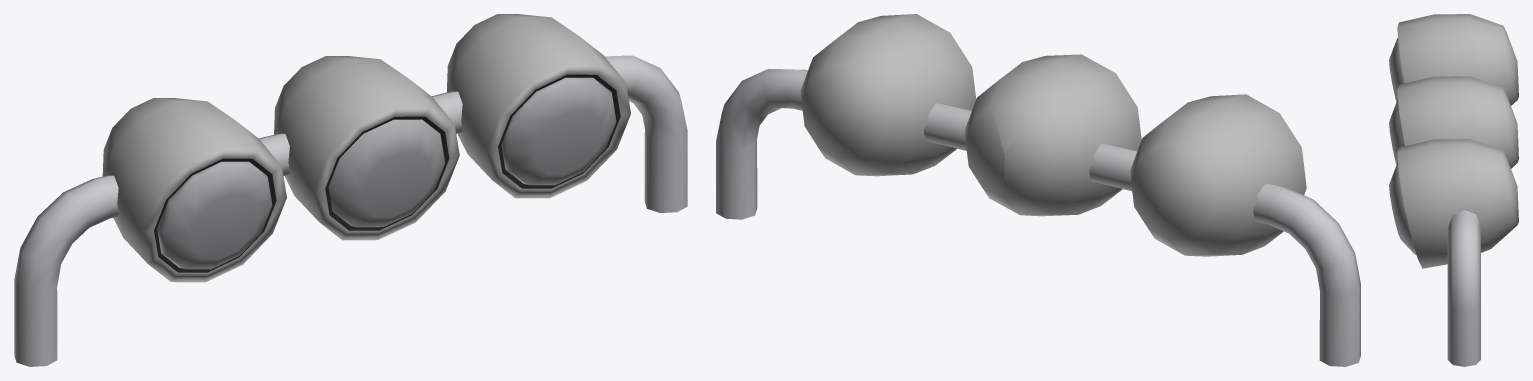
File: Car_11_FogLight.fbx
3 renders of one model, left to right at view 1: azimuth 30°, elevation 25°; view 2: azimuth 150°, elevation 25°; view 3: azimuth 270°, elevation 25°, orthographic. The views are drawn at different scales.
Visible parts, largest first — view 1: Car_11_FogLight; view 2: Car_11_FogLight; view 3: Car_11_FogLight.
Part boxes in pixels (bbox=[...]): Car_11_FogLight: bbox=[14, 14, 687, 366]; Car_11_FogLight: bbox=[716, 14, 1360, 366]; Car_11_FogLight: bbox=[1389, 14, 1518, 366].
Bounding box in the file's own units: 98.05 × 22.15 × 30.78.
